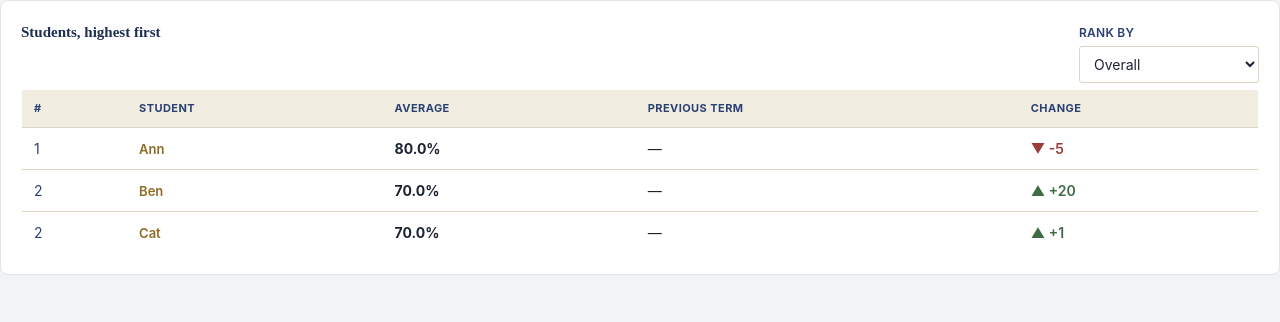
Test: student rankings › ranks by most improved
Select "Most improved" in the dropdown labelled "Rank by" at (1169, 64), box x1=1079 y1=46 x2=1259 y2=83
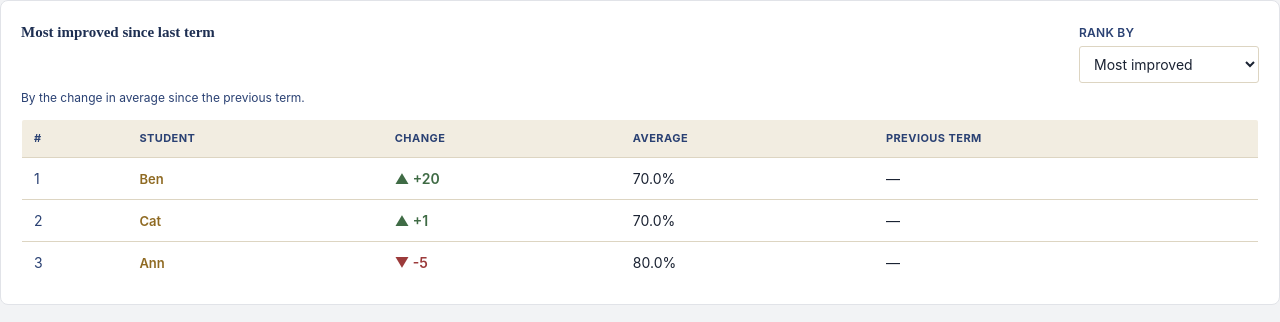
Expected: the heading "Most improved since last term" is shown, x1=21 y1=21 x2=215 y2=44
